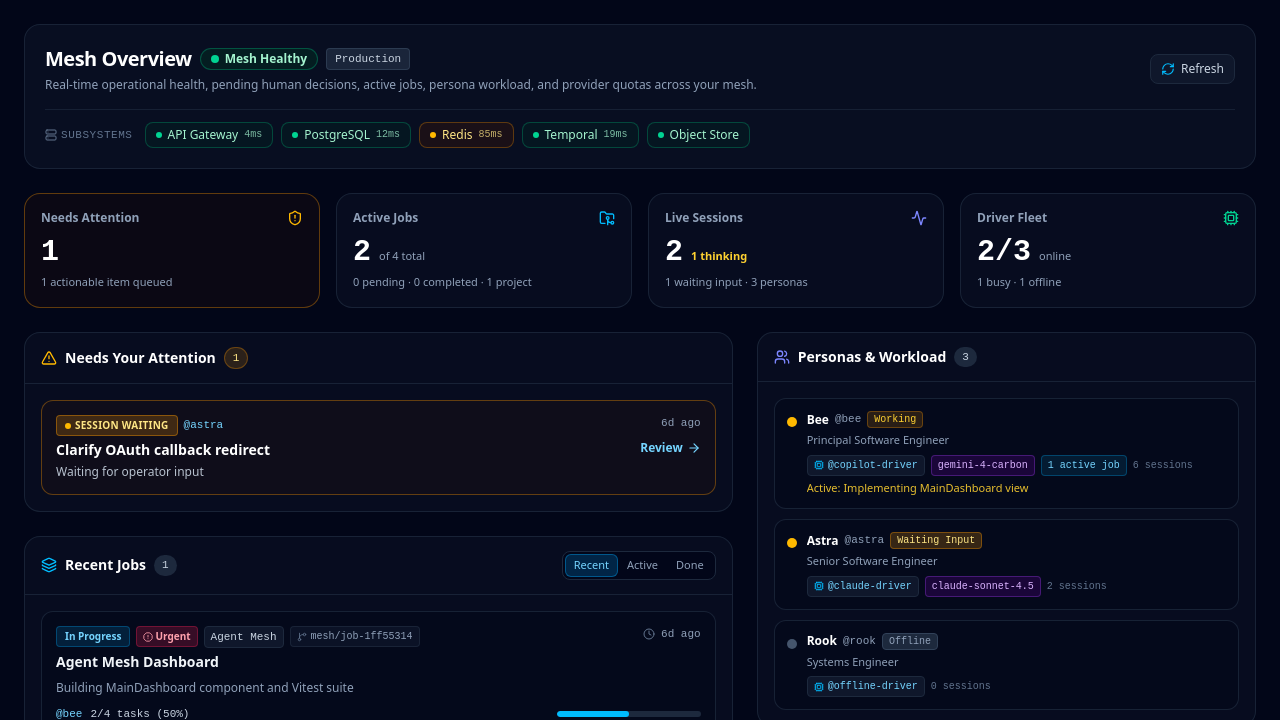
MainDashboard › fetches overview independently when overview prop is omitted and falls back cleanly to props on error
Expected: the element with test id "attention-item-session:sess-waiting" is shown, x1=41 y1=400 x2=716 y2=495
// Clicking Refresh invokes both onRefresh and standalone overview re-fetch
Click the button with test id "dashboard-refresh-btn". click: {"x": 1192, "y": 69}
box: x1=1150 y1=54 x2=1235 y2=84
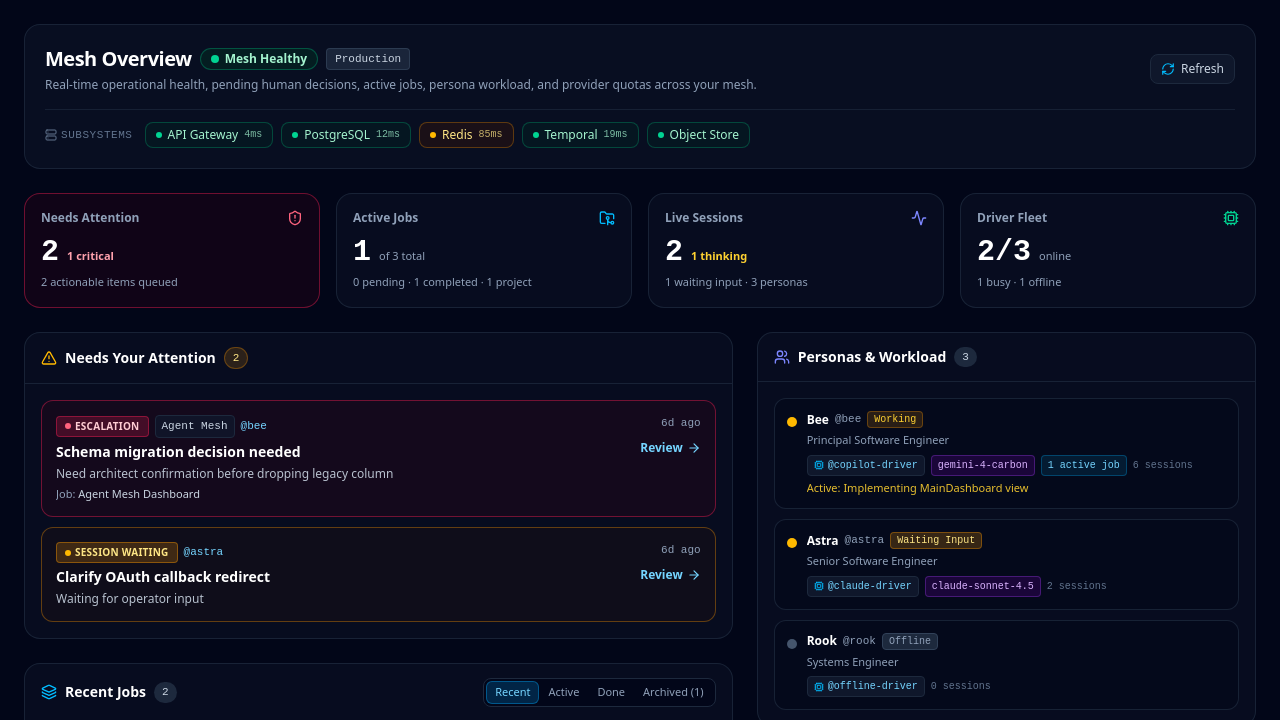
Expected: the text "Schema migration decision needed" is shown, x1=56 y1=442 x2=301 y2=460
